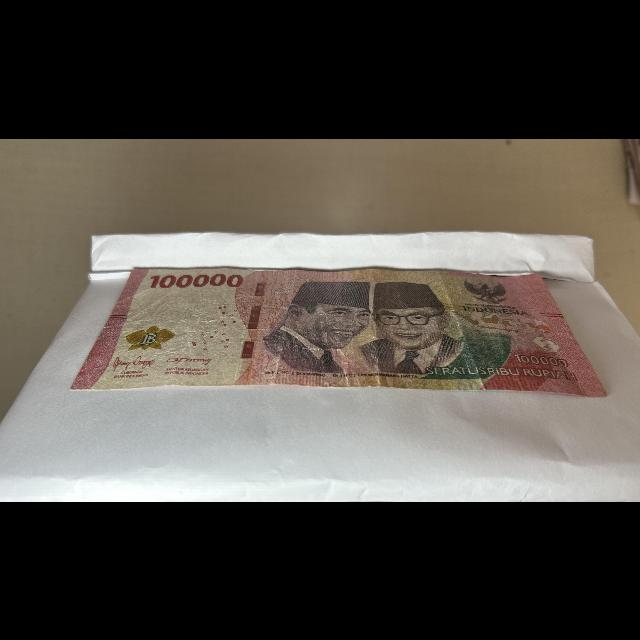Palsu-100k: (68, 264, 613, 397)
Tinta-Palsu-100k: (121, 324, 178, 351)
